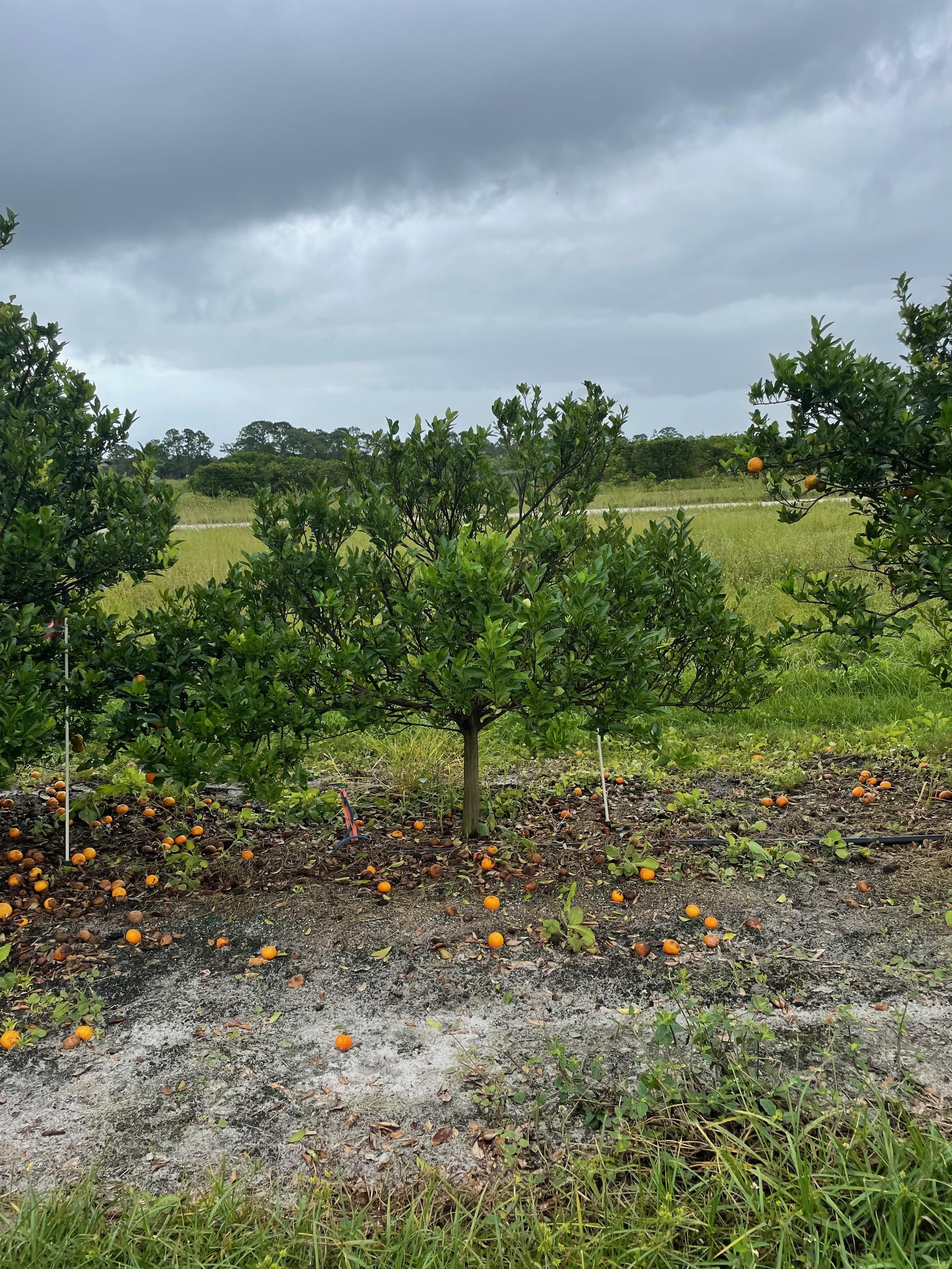fruit_on_ground: (746, 455, 765, 475), (802, 472, 821, 491), (901, 484, 919, 500), (144, 769, 161, 785), (70, 732, 85, 748), (813, 478, 828, 494), (70, 739, 85, 754), (132, 673, 148, 686), (152, 717, 165, 729)
fruit_on_tree: (1, 1029, 24, 1051), (334, 1031, 353, 1051), (75, 1023, 96, 1041), (110, 881, 129, 899), (632, 939, 651, 957), (51, 944, 72, 960), (61, 1033, 79, 1051), (663, 937, 681, 955), (487, 930, 505, 948), (742, 914, 762, 930), (126, 908, 144, 925), (482, 894, 500, 911), (637, 865, 656, 881), (125, 927, 143, 943), (260, 943, 277, 959), (214, 934, 232, 949), (684, 902, 702, 917), (427, 864, 444, 879), (6, 847, 23, 862), (702, 932, 719, 947), (0, 901, 14, 919), (21, 855, 37, 870), (43, 895, 59, 910), (31, 850, 46, 865), (28, 865, 44, 879), (856, 878, 872, 892), (523, 878, 539, 892), (33, 879, 49, 893), (935, 788, 951, 802), (857, 767, 873, 781), (7, 826, 23, 840), (70, 852, 86, 866), (5, 872, 21, 886), (144, 872, 160, 886), (376, 879, 392, 893), (702, 914, 718, 928), (240, 847, 255, 861), (609, 888, 624, 902), (527, 850, 543, 863), (82, 846, 98, 859), (864, 775, 881, 787), (97, 877, 112, 890), (775, 794, 790, 807), (53, 804, 67, 817), (161, 794, 175, 807), (115, 802, 129, 815), (444, 903, 458, 916), (363, 863, 377, 876), (481, 856, 495, 869), (522, 864, 537, 876), (760, 794, 775, 806), (53, 778, 66, 791), (45, 795, 58, 808), (594, 851, 607, 864), (850, 784, 863, 797), (861, 793, 875, 805), (751, 751, 765, 763), (191, 824, 205, 836), (486, 843, 499, 855), (879, 778, 892, 790), (89, 817, 103, 828), (56, 789, 67, 803), (30, 767, 42, 779), (161, 836, 173, 848), (413, 818, 425, 830), (918, 760, 931, 771), (140, 844, 153, 855), (391, 827, 404, 838), (2, 797, 15, 808), (142, 806, 155, 817), (100, 814, 114, 824), (203, 795, 215, 806), (175, 834, 187, 845), (558, 809, 571, 819), (572, 785, 583, 796), (203, 843, 215, 853), (590, 792, 602, 802), (573, 747, 584, 757), (827, 788, 838, 798), (429, 836, 440, 846), (616, 774, 626, 784)
